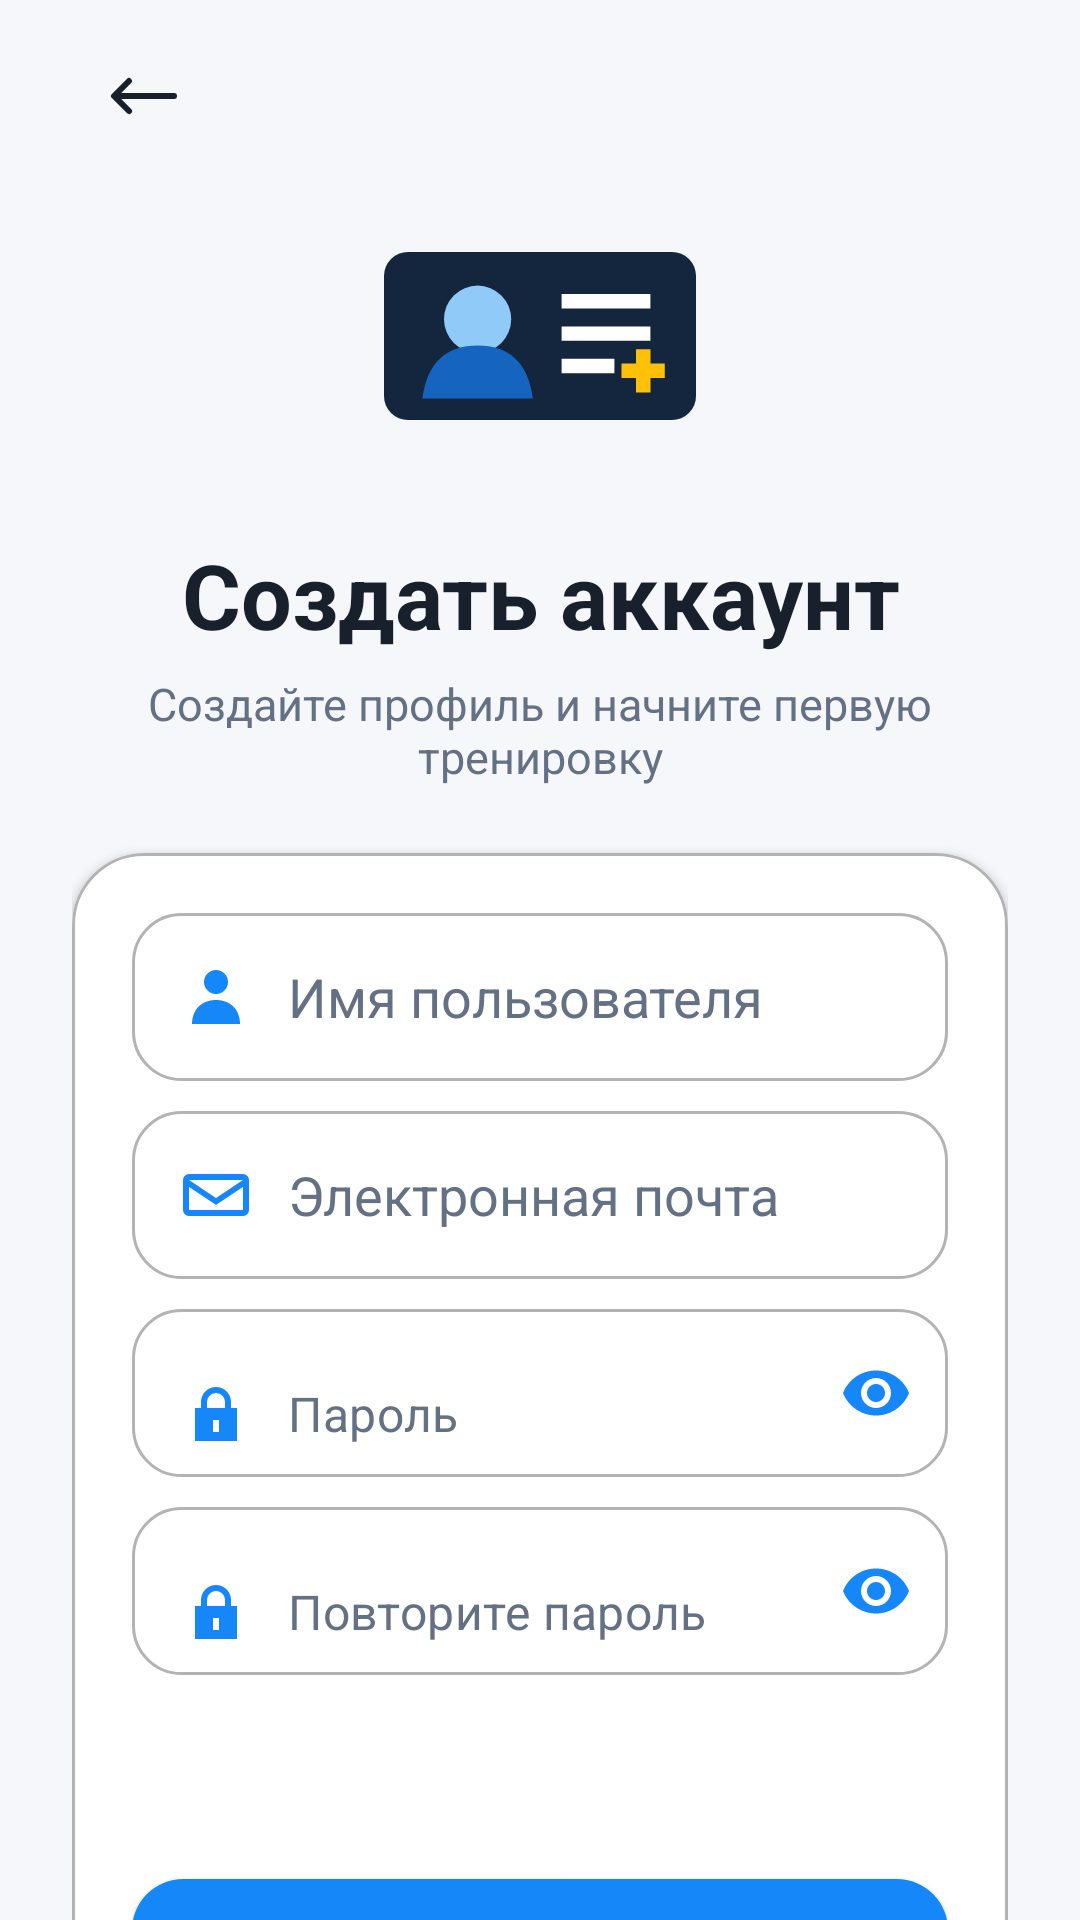

Where to tap for icons on this 1080px×1920px app screen, as (x,y):
regist: (540,336)
Назад: (144,96)
